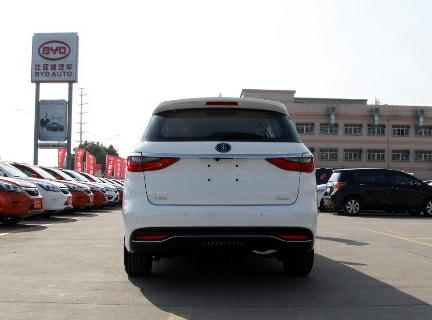比亚迪-宋MAX: (117, 93, 325, 276)
